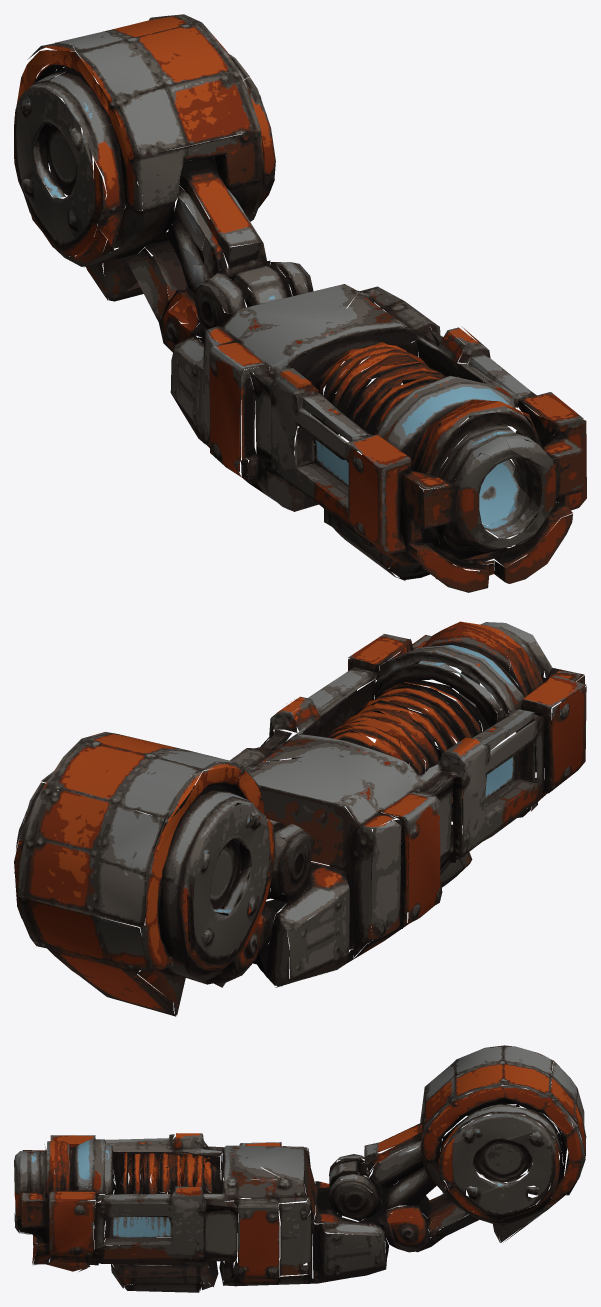
Rendered from ar_pulse.glb.
3 views of the same model, one above another, from view 1: azimuth 30°, elevation 25°; view 2: azimuth 150°, elevation 25°; view 3: azimuth 270°, elevation 25° (orthographic). The views are drawn at different scales.
Visible parts, largest first — view 1: ar_pulse; view 2: ar_pulse; view 3: ar_pulse.
Boxes of the visible parts, left/top/right/bottom form: ar_pulse: left=14, top=14, right=586, bottom=592; ar_pulse: left=14, top=621, right=586, bottom=1016; ar_pulse: left=14, top=1045, right=586, bottom=1292.
Bounding box in the file's own units: 0.1108 × 0.1712 × 0.4.
1 material, 1 textured.
